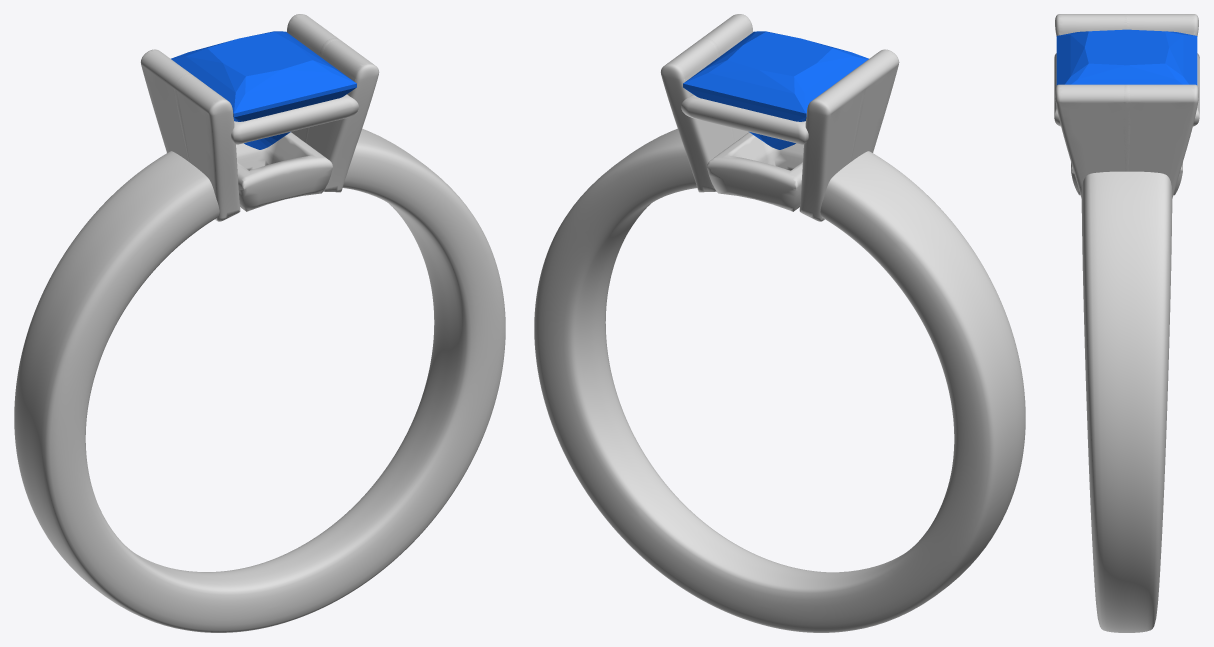
The model's file is bluesapphire-princess-platinum-halfmoonbezel-straighttaperedband-solitaire.glb.
The picture shows the model from 3 angles, left to right: view 1: azimuth 30°, elevation 25°; view 2: azimuth 150°, elevation 25°; view 3: azimuth 270°, elevation 25°; orthographic projection.
Parts seen in each view (by area): view 1: metal, stone; view 2: metal, stone; view 3: metal, stone.
Boxes of the visible parts, x1=… form: metal: x1=14, y1=14, x2=505, y2=632; stone: x1=171, y1=31, x2=356, y2=149; metal: x1=534, y1=14, x2=1025, y2=632; stone: x1=683, y1=31, x2=868, y2=149; metal: x1=1054, y1=14, x2=1199, y2=632; stone: x1=1056, y1=29, x2=1197, y2=85.
Size of the model in its own units: 20.51 by 23.86 by 5.6.
